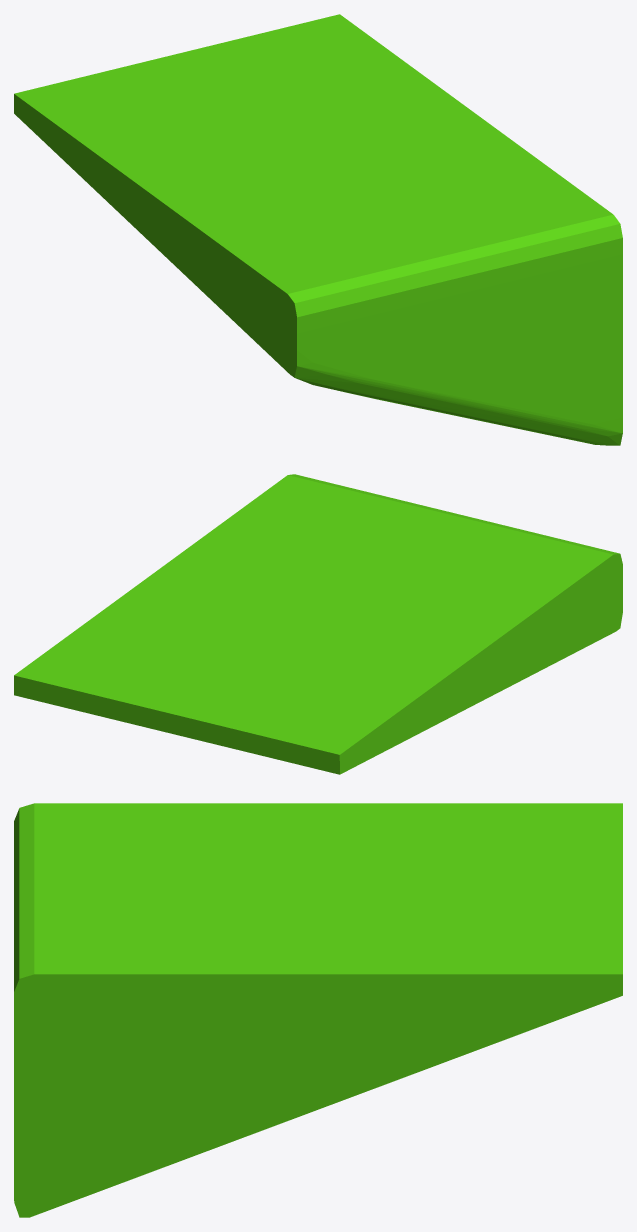
File: right_hip_yaw_link_part_17.obj
3 renders of one model, top to bottom at view 1: azimuth 30°, elevation 25°; view 2: azimuth 150°, elevation 25°; view 3: azimuth 270°, elevation 25°, orthographic. The views are drawn at different scales.
Size of the model in its own units: 0.0258 by 0.0171 by 0.0388.
